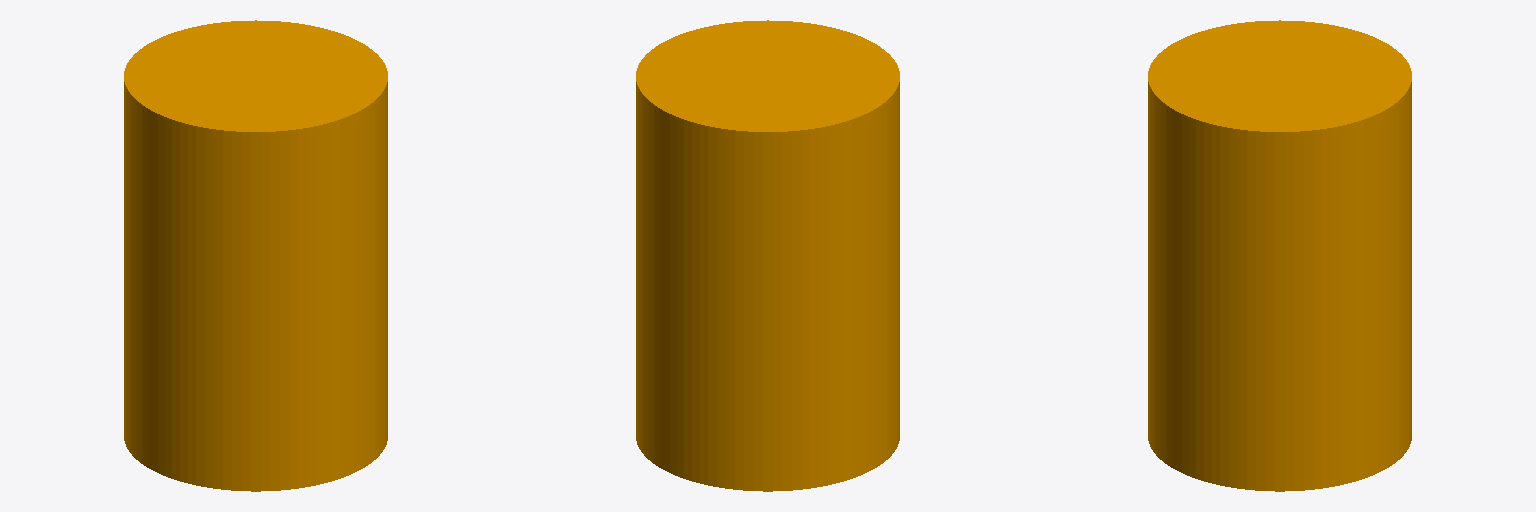
robot.urdf — industreal_round_peg_60mm:
<?xml version="1.0"?>
<robot name="industreal_round_peg_60mm">
    <link name="industreal_round_peg_60mm">
        <visual>
            <geometry>
                <mesh filename="../mesh/industreal_pegs/2in_v1Hard.obj"/>
            </geometry>
        </visual>
        <collision>
            <geometry>
                <mesh filename="../mesh/industreal_pegs/2in_v1Hard.obj"/>
            </geometry>
            <sdf resolution="256"/>
        </collision>
    </link>
</robot>

--- Facts derived from the render (not from the file) ---
Views: 3 orthographic renders of the robot side by side, from view 1: azimuth 30°, elevation 25°; view 2: azimuth 150°, elevation 25°; view 3: azimuth 270°, elevation 25°.
Model industreal_round_peg_60mm with 1 links and 0 joints (none), rooted at industreal_round_peg_60mm, posed every joint at zero.
Visible links, largest first — view 1: industreal_round_peg_60mm; view 2: industreal_round_peg_60mm; view 3: industreal_round_peg_60mm.
Boxes of the visible links, x1,y1,x2,y2 form: industreal_round_peg_60mm: (124,20,387,491); industreal_round_peg_60mm: (636,20,899,491); industreal_round_peg_60mm: (1148,20,1411,491).
Bounding box of the posed robot: 0.0508 × 0.0508 × 0.0762 m (x, y, z).
Meshes: 1 distinct files referenced, 1 mesh visuals loaded (1 OBJ).